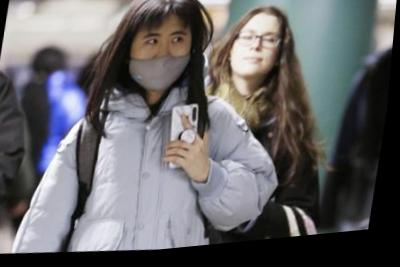NONE: (229, 26, 286, 86)
WRONG: (125, 26, 196, 98)
